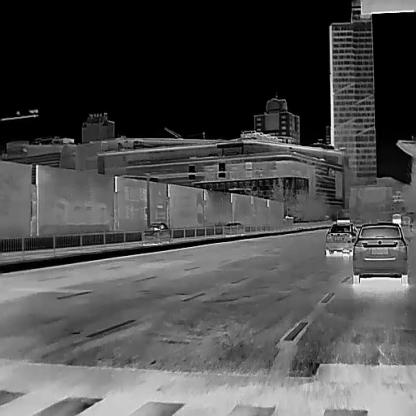bus: (392, 213, 400, 223)
car: (350, 219, 408, 286), (323, 217, 359, 257), (140, 221, 172, 245), (222, 220, 244, 233)
